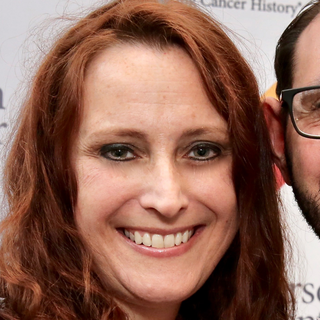eye: (96, 141, 141, 166), (178, 141, 225, 164)
